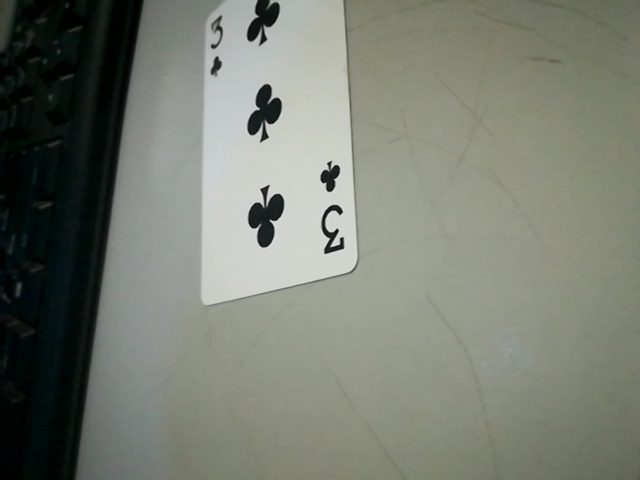mh 3: (309, 148, 360, 272)
